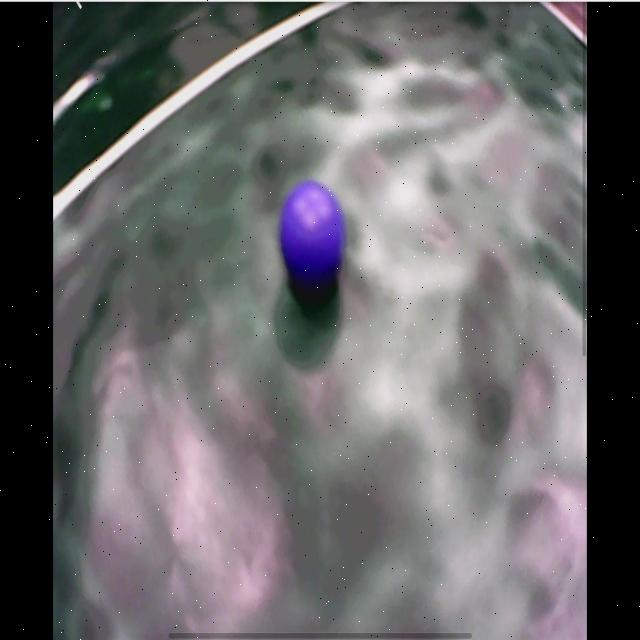ball: (280, 181, 347, 289)
